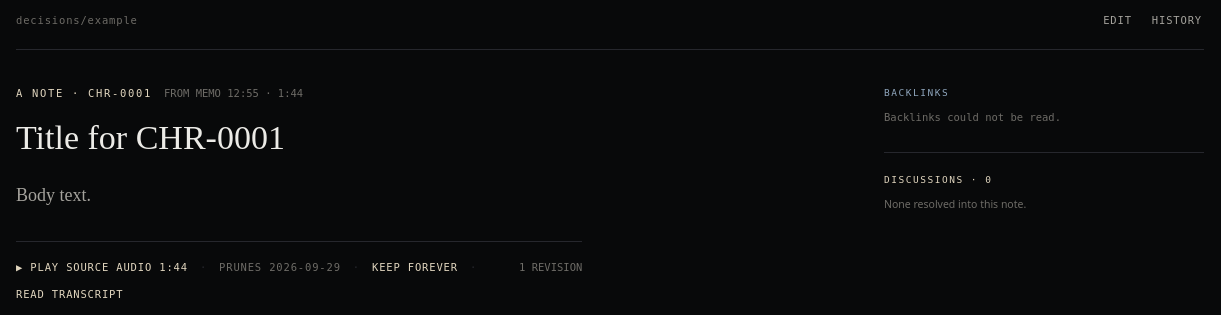
Test: NoteView -- keeping the recording › one click moves PRUNES <date> to PINNED — KEPT, and the control goes away
Step 1. Click the button "KEEP FOREVER" → coordinates (415, 268), box x1=372 y1=260 x2=458 y2=275
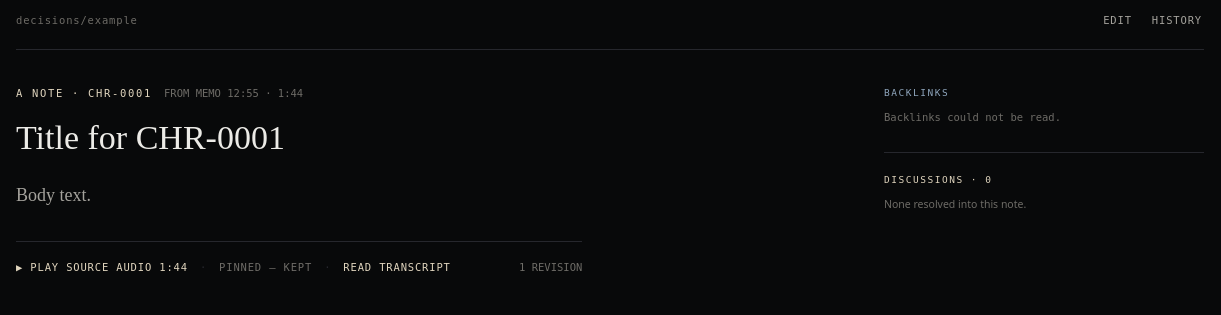
Now the text "PINNED — KEPT" is shown, box x1=219 y1=260 x2=312 y2=275
Now the text "PRUNES 2026-09-29" is gone
